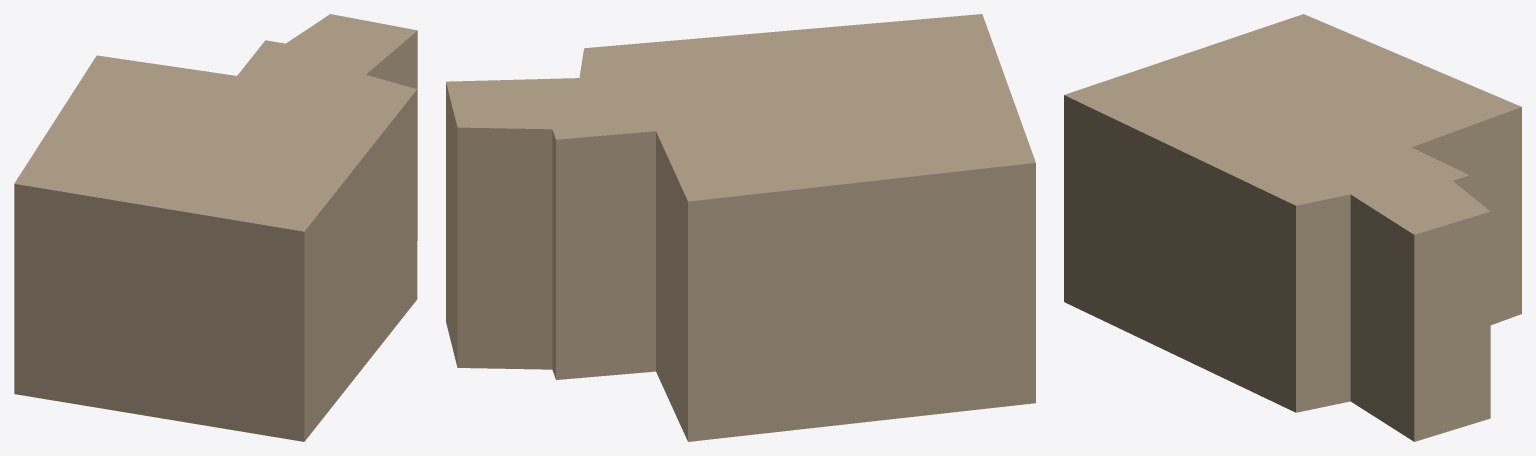
The model's file is bld_98862362.dae.
3 views of the same model, side by side, from view 1: azimuth 30°, elevation 25°; view 2: azimuth 150°, elevation 25°; view 3: azimuth 270°, elevation 25° (orthographic). The views are drawn at different scales.
Parts seen in each view (by area): view 1: bld_98862362; view 2: bld_98862362; view 3: bld_98862362.
Boxes of the visible parts, box(x1,y1,x2,y2) form: bld_98862362: box(14, 14, 417, 441); bld_98862362: box(446, 14, 1035, 441); bld_98862362: box(1064, 14, 1521, 441).
Size of the model in its own units: 18.31 by 16.04 by 8.
